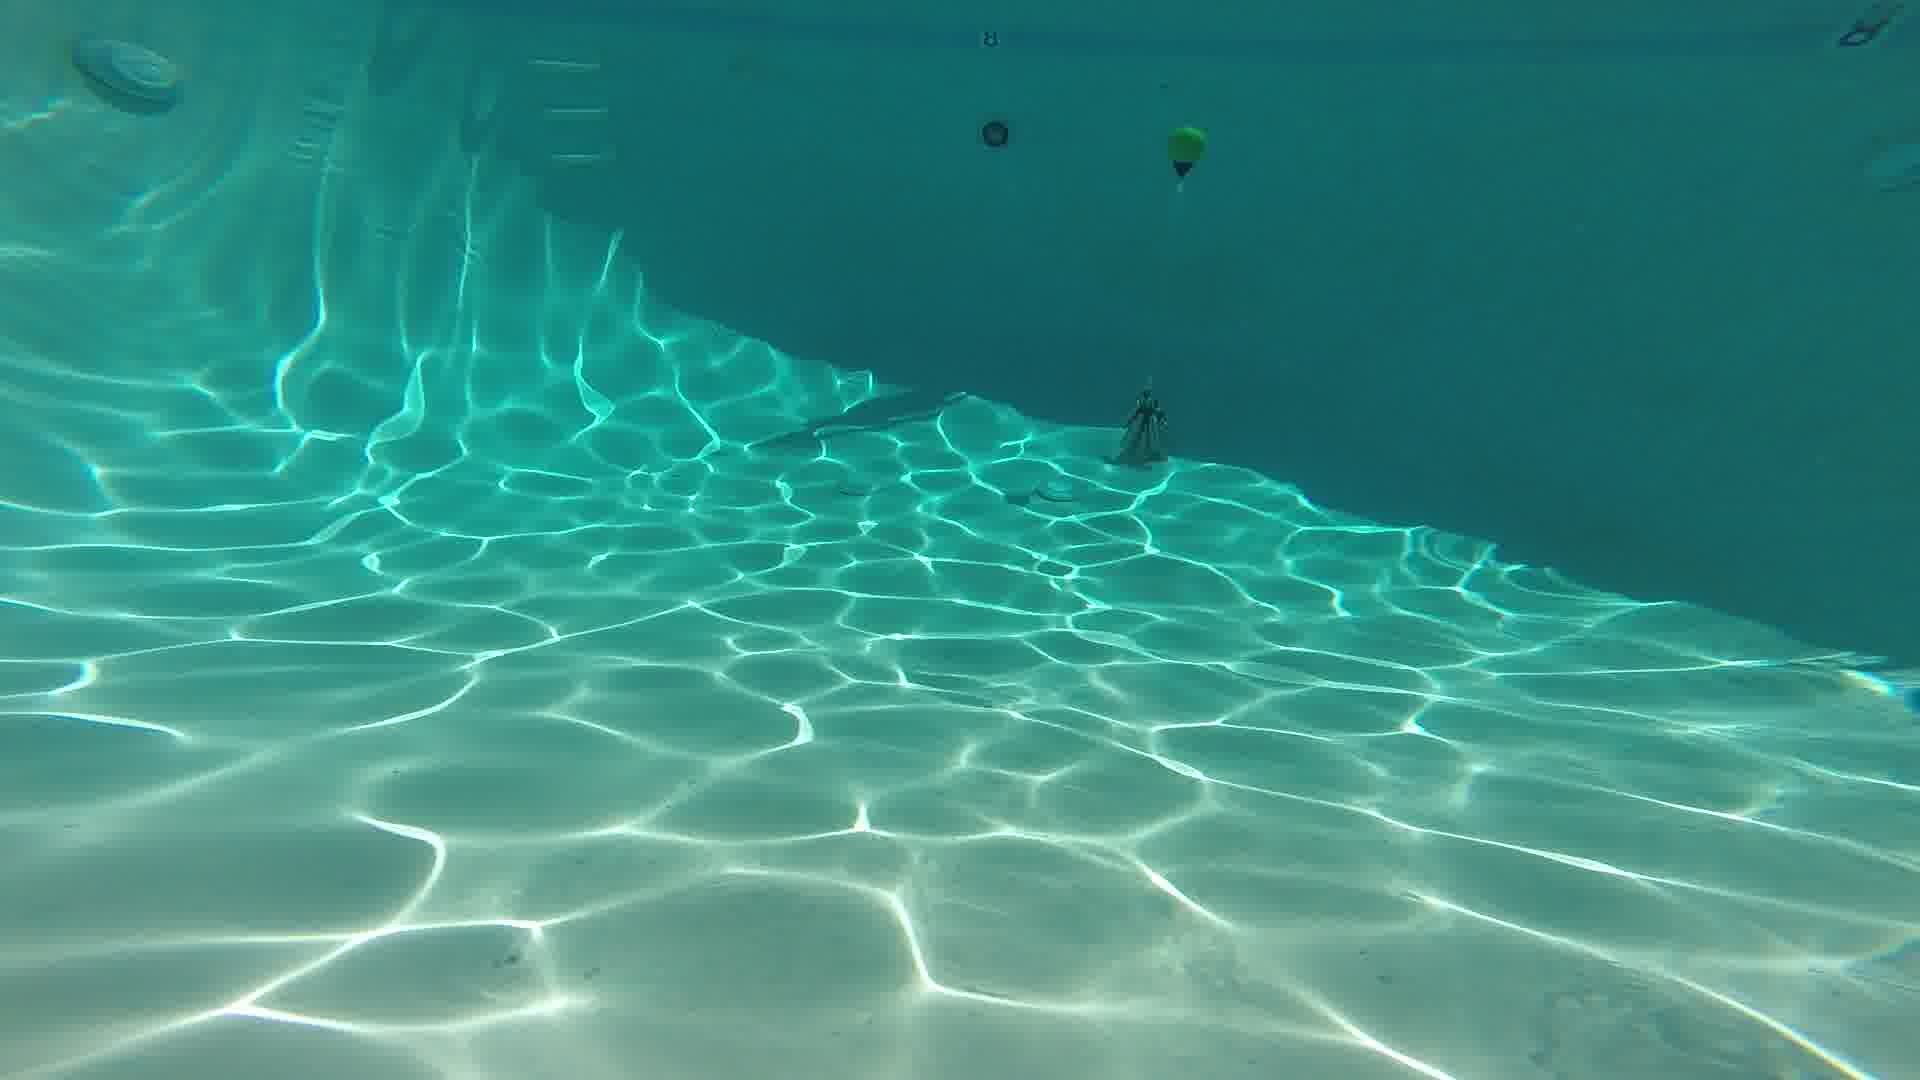yellow_buoy: (1167, 127, 1203, 178)
